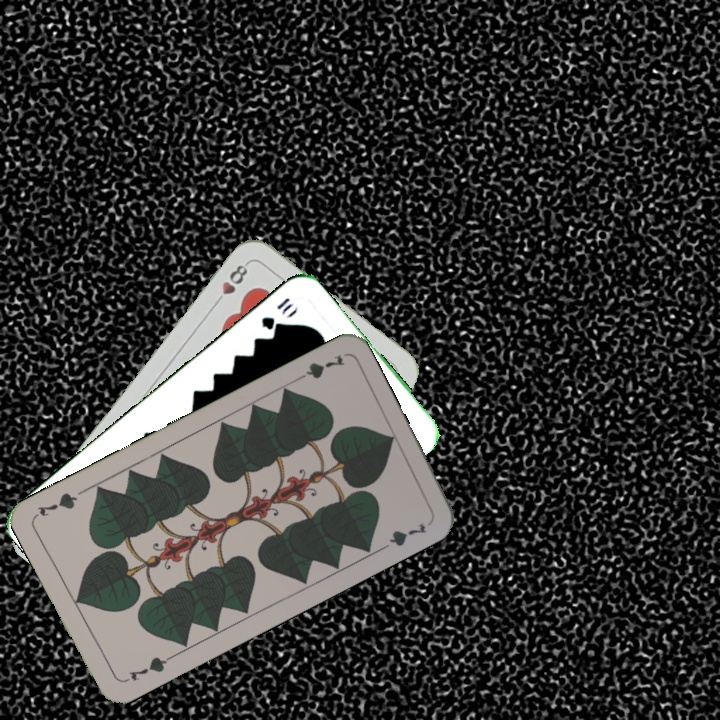G10: (257, 293, 295, 333)
G7: (290, 351, 347, 385), (120, 652, 174, 686)
H8: (210, 258, 252, 308)
